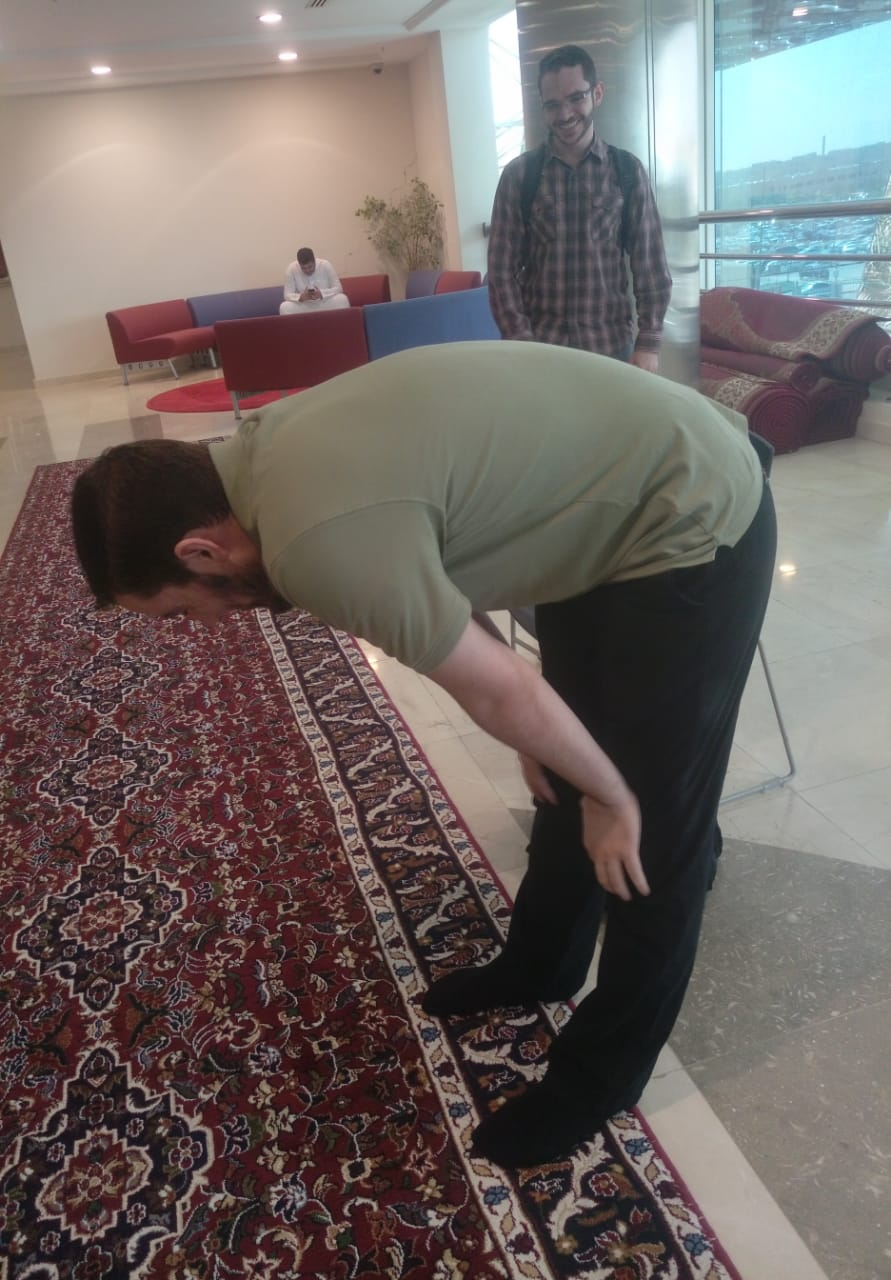ruku: (39, 327, 859, 1233)
